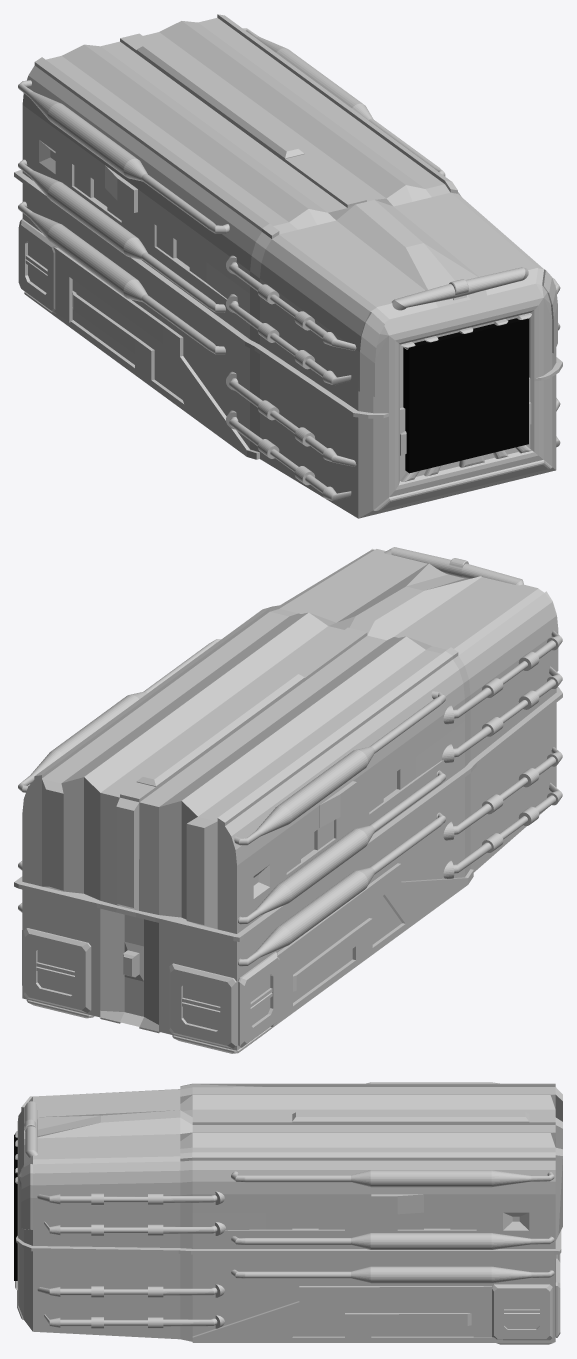
File: Souper_CruiseMissile_Launcher.fbx
3 renders of one model, top to bottom at view 1: azimuth 30°, elevation 25°; view 2: azimuth 150°, elevation 25°; view 3: azimuth 270°, elevation 25°, orthographic. The views are drawn at different scales.
Visible parts, largest first — view 1: Cube, Cube.014, Cylinder.006, Cylinder.011, Cylinder.016, Cube.011, Cylinder.007; view 2: Cube, Cylinder.006, Cube.009, Cube.010, Cylinder.011, Cylinder.016, Cube.011, Cylinder.007; view 3: Cube, Cylinder.006, Cube.016, Cylinder.016, Cylinder.011, Cylinder.007, Cube.014, Cube.009.
Boxes of the visible parts, left/top/right/bottom form: Cube: left=14, top=14, right=562, bottom=518; Cube.014: left=403, top=318, right=528, bottom=473; Cylinder.006: left=18, top=28, right=445, bottom=354; Cylinder.011: left=226, top=255, right=560, bottom=385; Cylinder.016: left=226, top=371, right=560, bottom=501; Cube.011: left=18, top=219, right=57, bottom=313; Cylinder.007: left=391, top=267, right=528, bottom=310; Cube: left=14, top=548, right=562, bottom=1050; Cylinder.006: left=18, top=639, right=445, bottom=966; Cube.009: left=23, top=928, right=91, bottom=1012; Cube.010: left=169, top=963, right=236, bottom=1048; Cylinder.011: left=442, top=630, right=562, bottom=763; Cylinder.016: left=443, top=747, right=562, bottom=878; Cube.011: left=238, top=952, right=279, bottom=1047; Cylinder.007: left=384, top=547, right=523, bottom=585; Cube: left=15, top=1083, right=562, bottom=1342; Cylinder.006: left=231, top=1082, right=554, bottom=1283; Cube.016: left=492, top=1284, right=552, bottom=1340; Cylinder.016: left=37, top=1284, right=224, bottom=1328; Cylinder.011: left=37, top=1191, right=225, bottom=1235; Cylinder.007: left=24, top=1101, right=37, bottom=1157; Cube.014: left=14, top=1134, right=17, bottom=1280; Cube.009: left=555, top=1258, right=560, bottom=1337.
Size of the model in its own units: 8.26 by 7.74 by 20.15.
